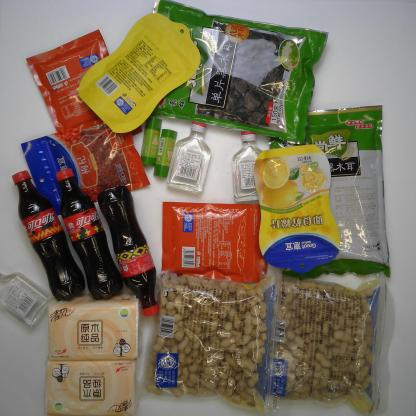Alcohol: (170, 121, 213, 192), (0, 271, 51, 329), (231, 130, 266, 202)
Dried Food: (148, 0, 329, 143), (267, 103, 393, 281), (141, 270, 275, 412), (266, 272, 397, 416)
Dried Fruit: (76, 11, 202, 134), (19, 119, 152, 218), (24, 29, 142, 136), (250, 144, 342, 274), (159, 199, 269, 284)
Drink: (11, 168, 86, 302), (54, 167, 124, 301), (97, 183, 163, 316)
Stationery: (152, 128, 178, 178), (140, 116, 162, 165)
Tissue: (46, 295, 141, 360), (44, 357, 139, 416)
